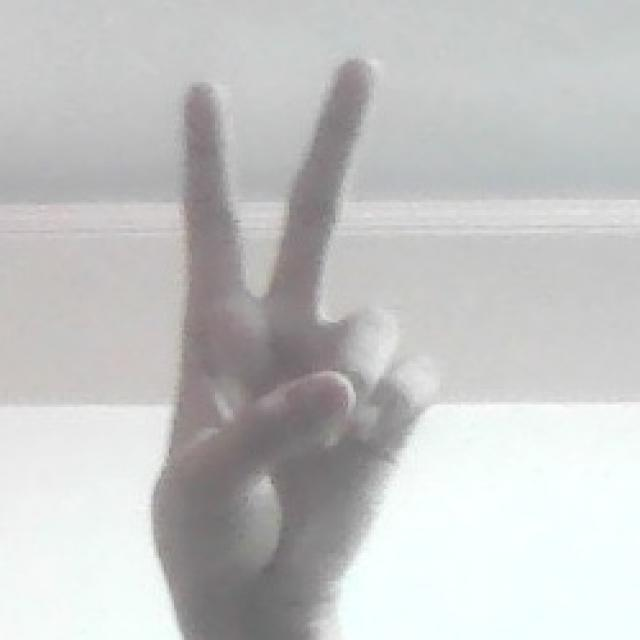Numeric-2: (162, 50, 435, 571)
